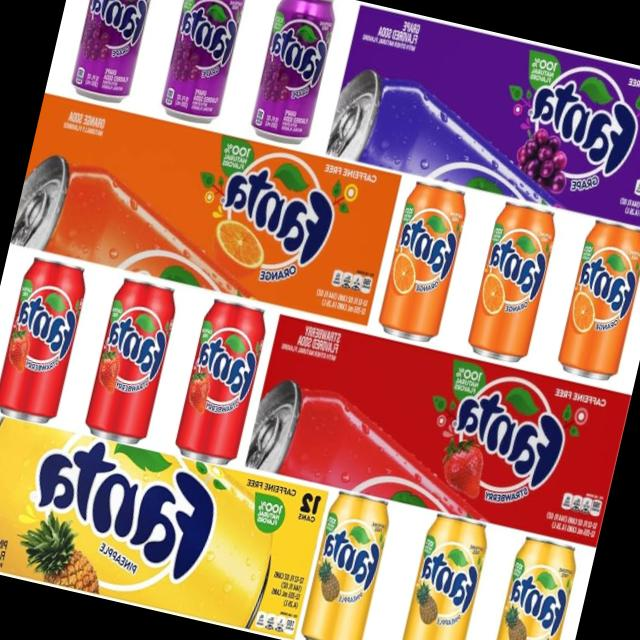fanta: (371, 176, 473, 344), (465, 198, 564, 368), (550, 219, 640, 389)
